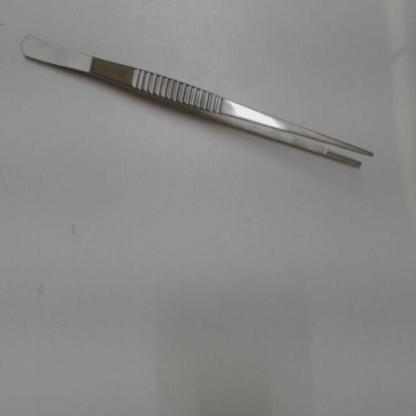DeBakey Dissector: (15, 23, 397, 196)
